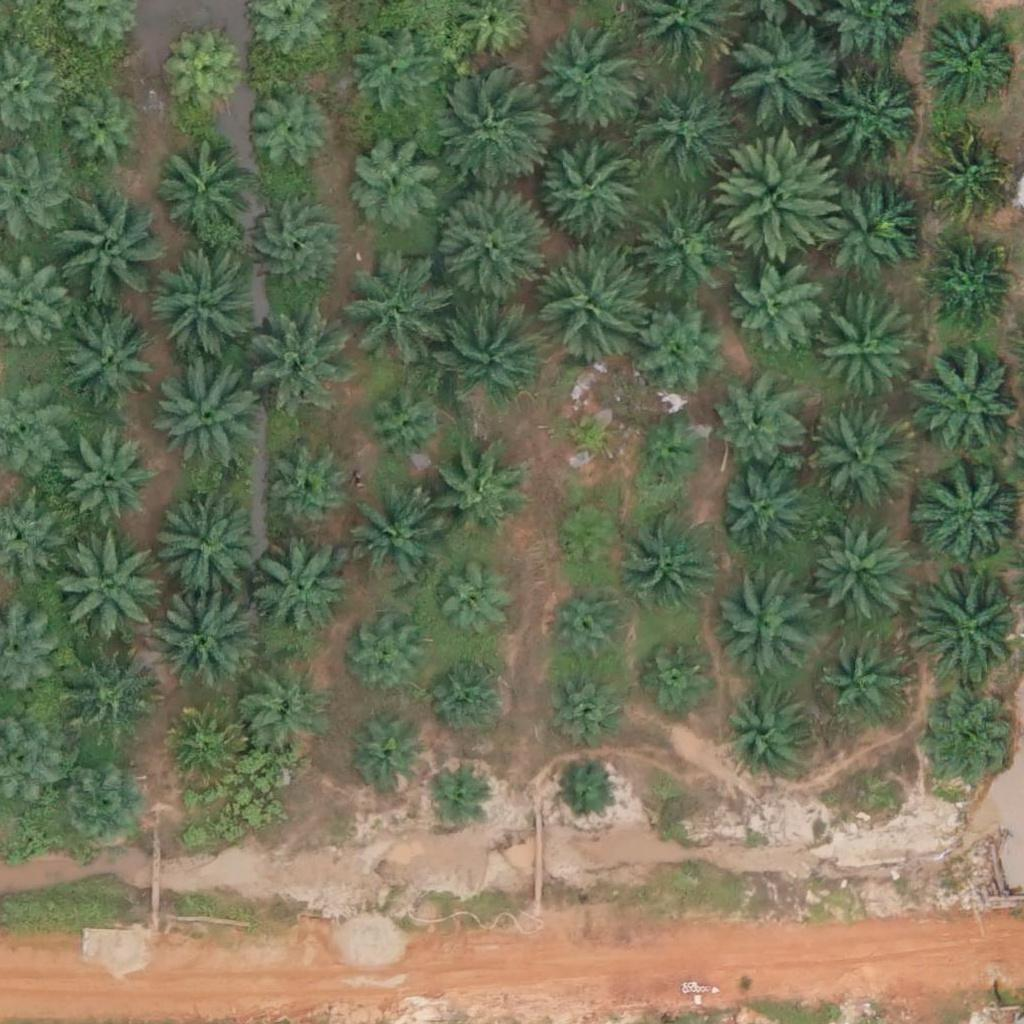Kelapa_Sawit: (719, 135, 844, 261), (721, 13, 834, 127), (145, 356, 258, 470), (627, 73, 740, 186), (534, 128, 647, 241), (431, 189, 544, 302), (150, 583, 263, 696), (142, 487, 255, 600), (431, 291, 543, 405), (148, 252, 260, 366), (50, 529, 162, 643), (527, 29, 639, 142), (532, 246, 644, 359), (429, 80, 541, 193), (242, 297, 354, 410), (46, 191, 158, 304), (921, 6, 1021, 107), (917, 695, 1017, 796), (828, 65, 928, 166), (814, 302, 914, 403), (809, 414, 909, 515), (805, 522, 905, 623), (631, 194, 731, 295), (633, 295, 733, 396), (425, 443, 525, 544), (339, 492, 439, 593), (339, 264, 439, 365), (249, 540, 349, 641), (152, 140, 252, 241), (55, 308, 155, 409), (57, 645, 157, 746), (624, 509, 724, 610), (813, 172, 913, 272), (716, 574, 816, 674), (346, 130, 446, 230), (244, 198, 344, 298), (920, 130, 1008, 218), (713, 382, 801, 470), (538, 665, 626, 753), (157, 703, 245, 791), (360, 381, 448, 469), (67, 441, 155, 529), (716, 469, 803, 558), (346, 29, 433, 118), (923, 238, 1010, 326), (823, 640, 910, 728), (725, 689, 812, 777), (731, 262, 818, 350), (548, 584, 635, 672), (243, 88, 330, 176), (265, 450, 352, 538), (242, 670, 329, 758), (56, 92, 143, 180), (58, 762, 145, 850), (431, 567, 506, 643), (433, 655, 508, 731), (632, 415, 707, 491), (551, 502, 626, 578), (165, 38, 240, 114), (639, 637, 714, 712), (351, 622, 426, 697), (349, 722, 424, 797), (422, 763, 485, 826), (555, 759, 617, 822), (558, 403, 620, 466)
